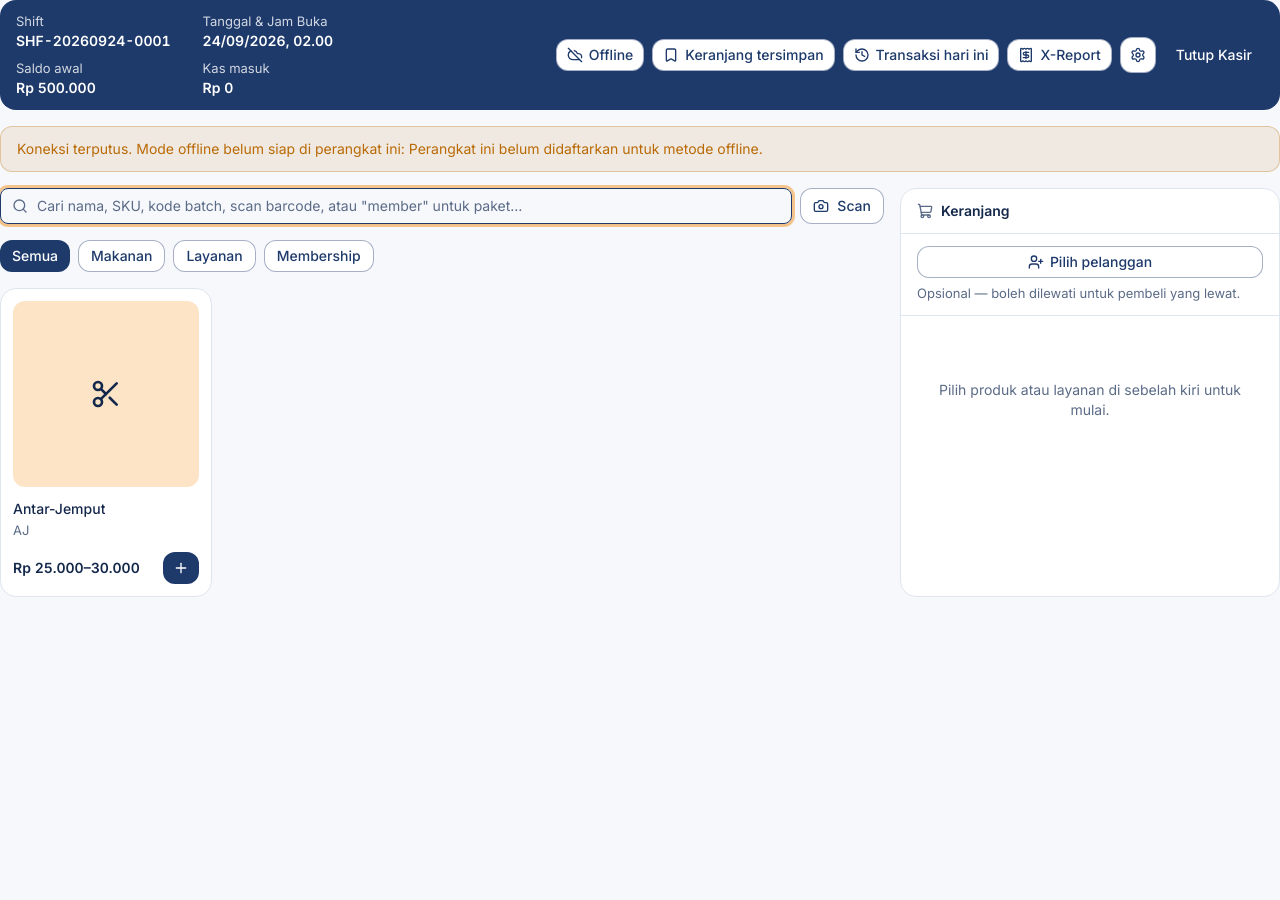
Test: PosServicePetDialog — antar-jemput › holds the button while an end has no pin, and says why
Click the button "Pilih pelanggan". click: x=1090, y=262
box: [917, 246, 1263, 278]
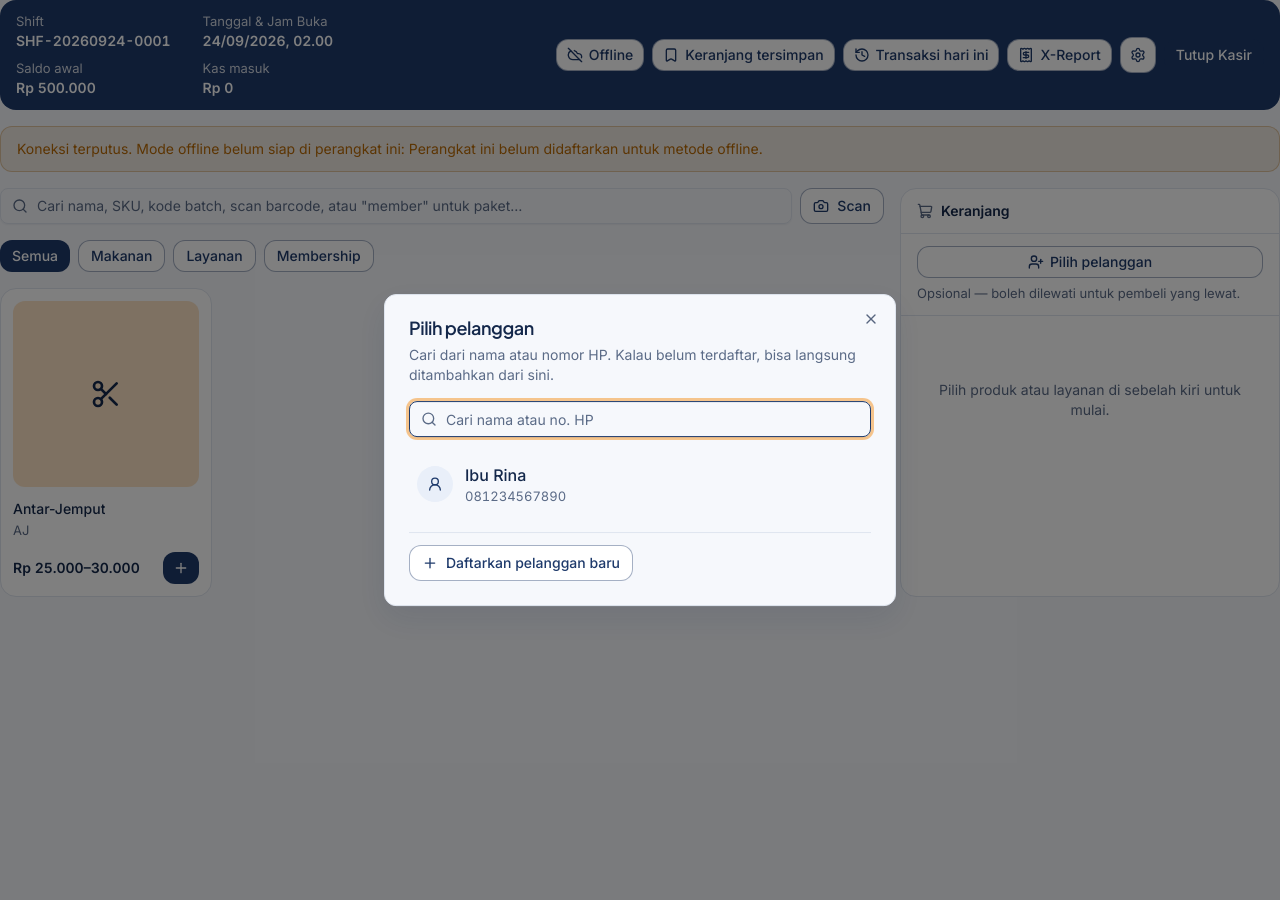
Click the text "Ibu Rina". click: x=496, y=475
box: [465, 465, 526, 485]
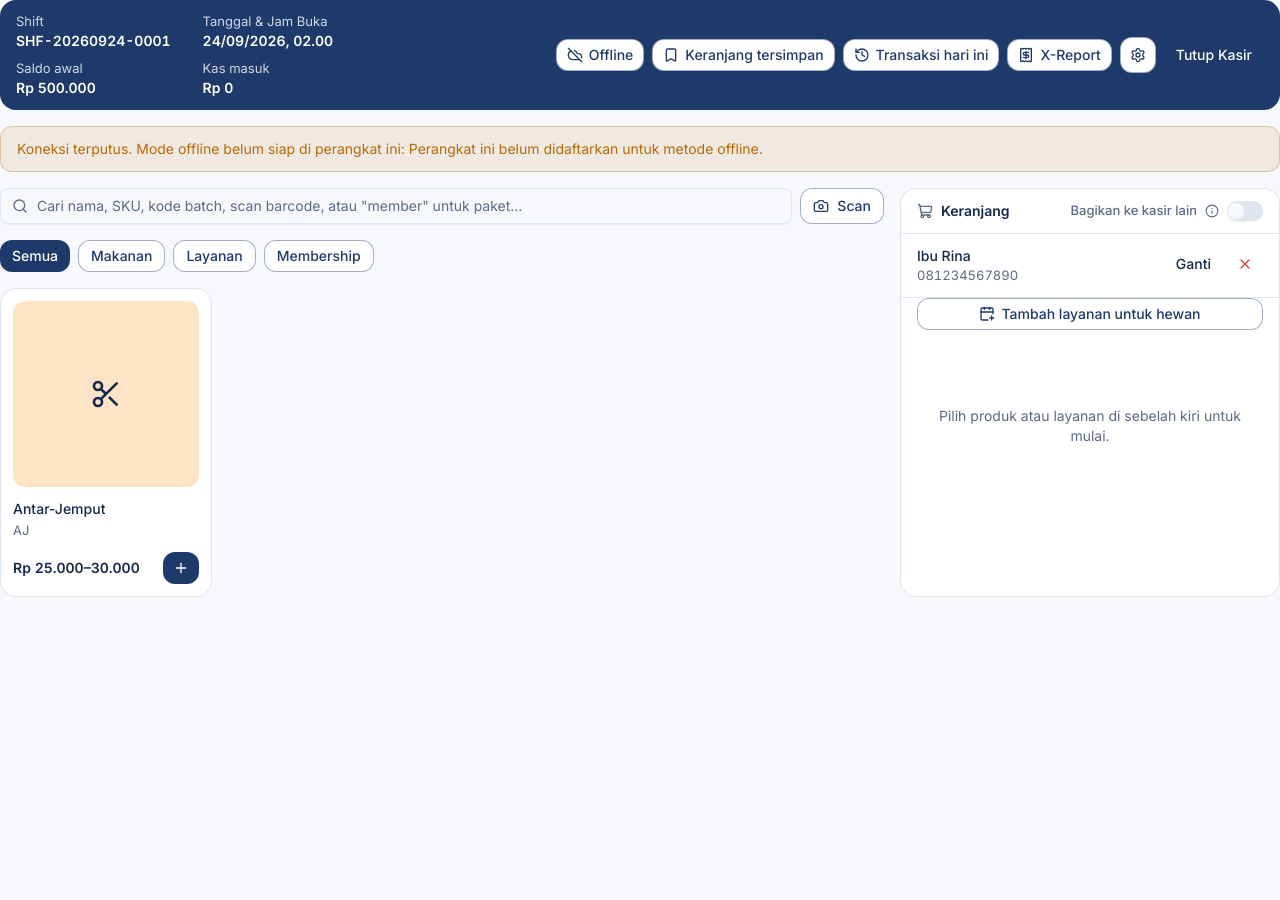
Click the button named "antar-jemput". click: x=181, y=568
box: [163, 552, 199, 584]
(page scrolled)
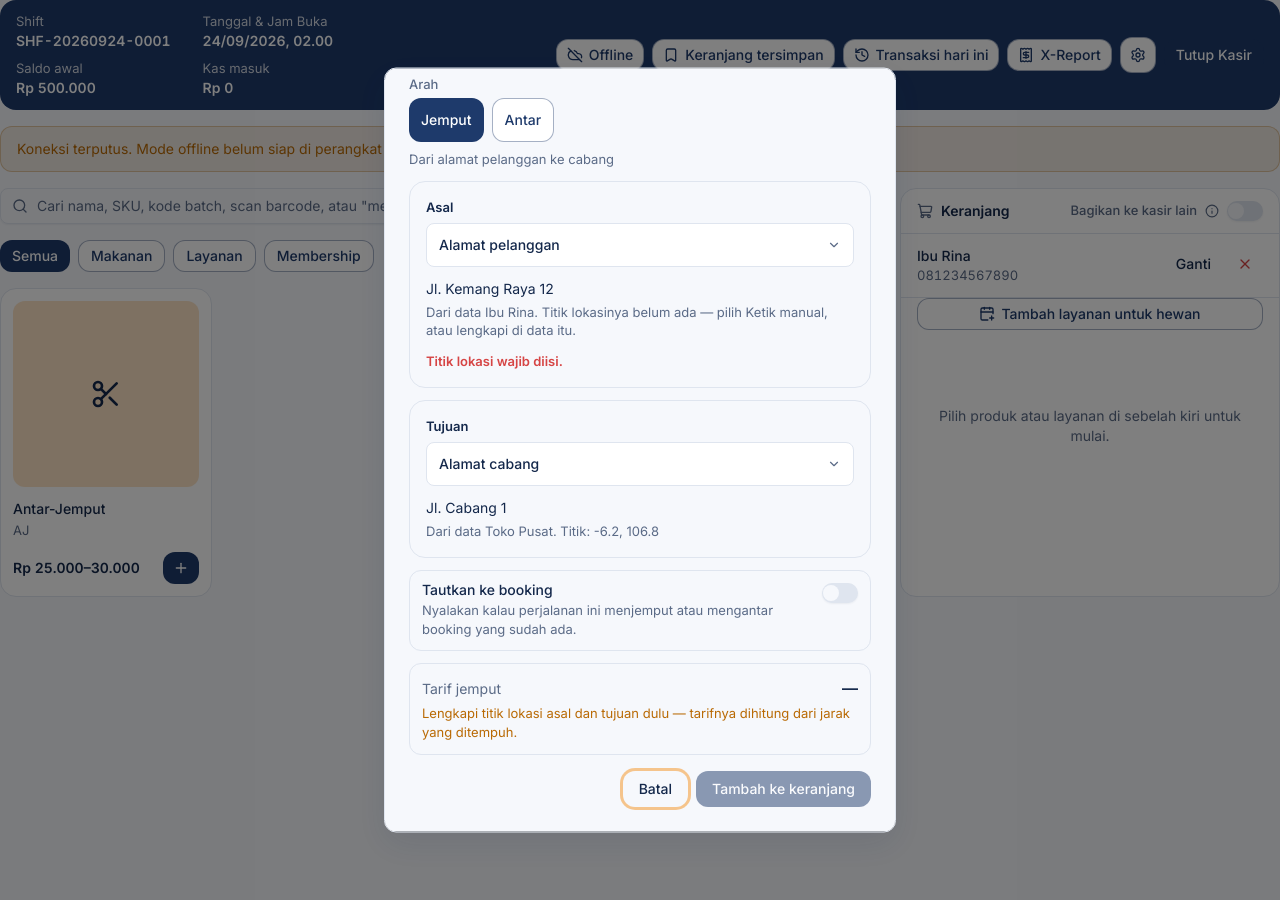
Check: the text "Lengkapi titik lokasi asal dan tujuan dulu" is shown, box [422, 706, 850, 741]
Check: the button "Tambah ke keranjang" is disabled, box [696, 772, 871, 808]
